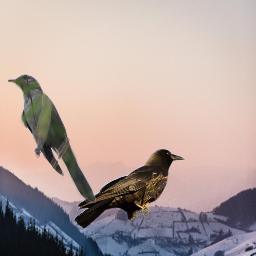Crow: (74, 146, 187, 232)
Cuckoo: (8, 74, 99, 204)
